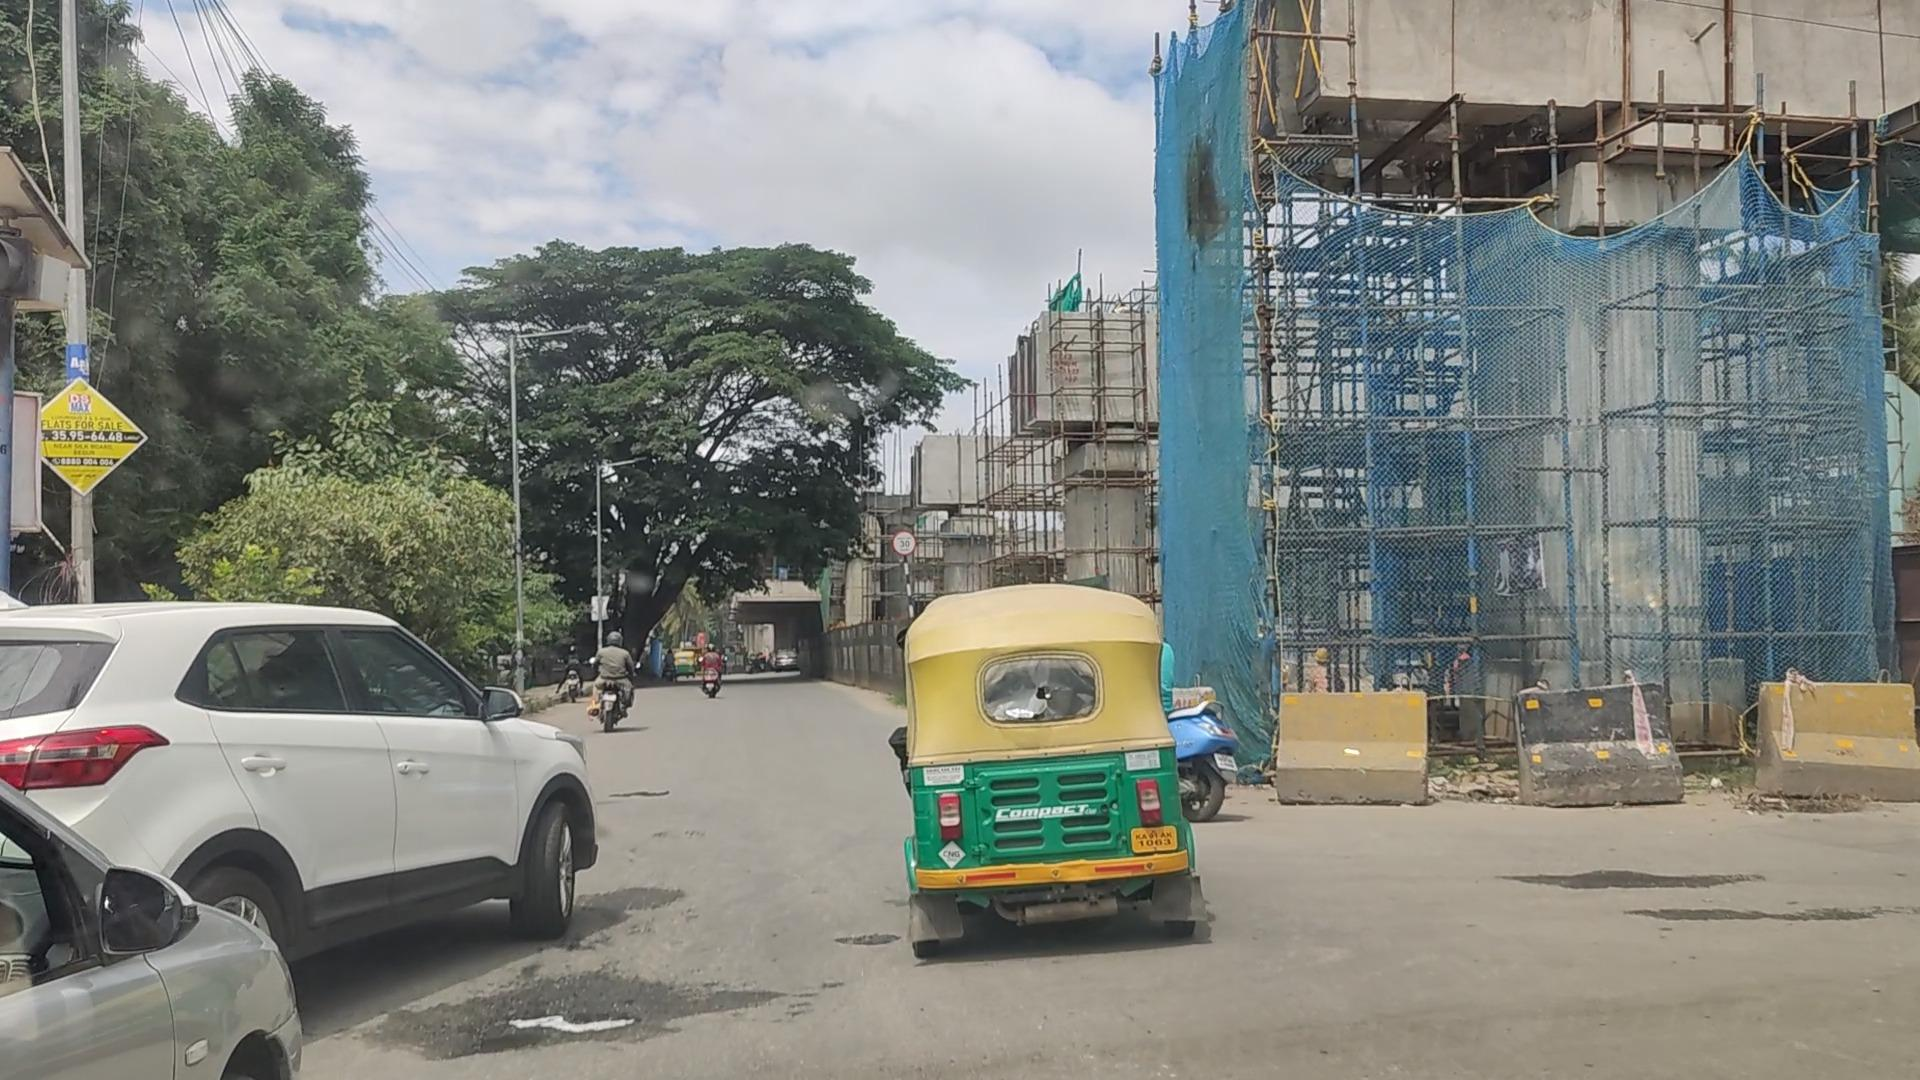LMV: (0, 615, 571, 927), (890, 575, 1215, 956)
RoadDamages: (496, 972, 650, 1059)
